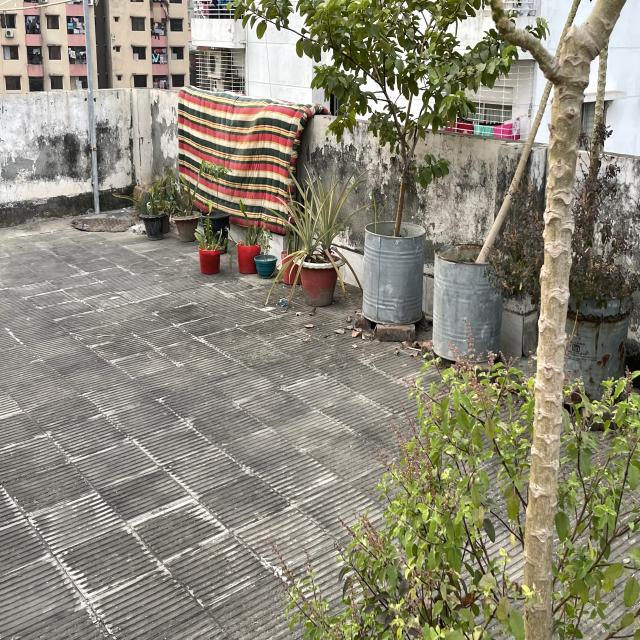Breeding Place: (434, 236, 503, 360), (364, 221, 426, 331), (299, 248, 349, 302), (142, 205, 168, 242), (279, 240, 301, 282), (174, 208, 194, 244), (250, 253, 280, 277), (198, 245, 224, 272), (208, 204, 232, 232), (234, 243, 258, 271)
